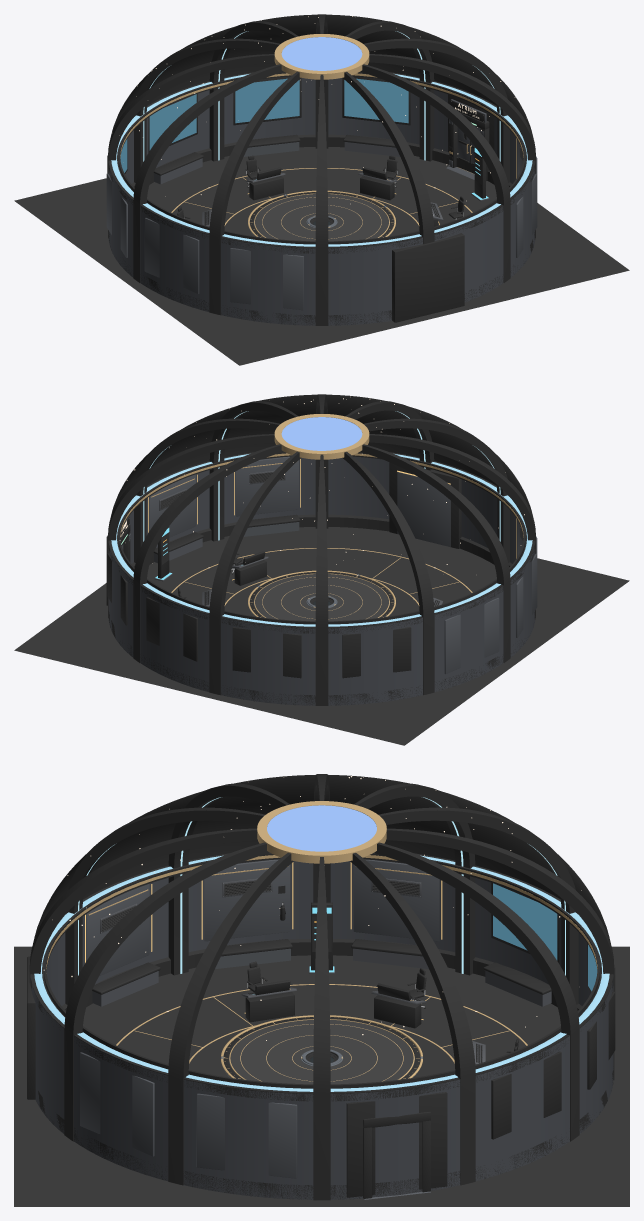
The model's file is room.glb.
The picture shows the model from 3 angles, top to bottom: view 1: azimuth 30°, elevation 25°; view 2: azimuth 150°, elevation 25°; view 3: azimuth 270°, elevation 25°; orthographic projection. The views are drawn at different scales.
Visible parts, largest first — view 1: archL, archR, floorN, polish, archC, EM_static, props, center, FX_screen1, FX_screen2, FX_screen3; view 2: archL, archR, floorN, polish, archC, EM_static, props, center; view 3: archL, archR, floorN, polish, archC, EM_static, props, center, FX_screen4.
Boxes of the visible parts, left/top/right/bottom form: archL: left=106, top=76, right=537, bottom=325; archR: left=108, top=14, right=535, bottom=325; floorN: left=14, top=147, right=629, bottom=365; polish: left=120, top=34, right=523, bottom=241; archC: left=111, top=14, right=532, bottom=135; EM_static: left=111, top=16, right=532, bottom=246; props: left=153, top=134, right=489, bottom=218; center: left=202, top=167, right=443, bottom=237; FX_screen1: left=344, top=78, right=408, bottom=123; FX_screen2: left=235, top=78, right=299, bottom=123; FX_screen3: left=149, top=94, right=196, bottom=150; archL: left=106, top=456, right=537, bottom=705; archR: left=108, top=394, right=535, bottom=705; floorN: left=14, top=527, right=629, bottom=745; polish: left=120, top=414, right=523, bottom=621; archC: left=111, top=394, right=532, bottom=515; EM_static: left=111, top=396, right=532, bottom=626; props: left=153, top=514, right=300, bottom=598; center: left=202, top=551, right=443, bottom=617; archL: left=27, top=859, right=615, bottom=1199; archR: left=29, top=774, right=614, bottom=1200; floorN: left=14, top=946, right=629, bottom=1206; polish: left=46, top=801, right=597, bottom=1084; archC: left=33, top=775, right=610, bottom=943; EM_static: left=34, top=776, right=609, bottom=1091; props: left=92, top=885, right=551, bottom=1052; center: left=221, top=980, right=485, bottom=1079; FX_screen4: left=493, top=883, right=557, bottom=960.
Bounding box in the file's own units: 19 × 8.45 × 19.
